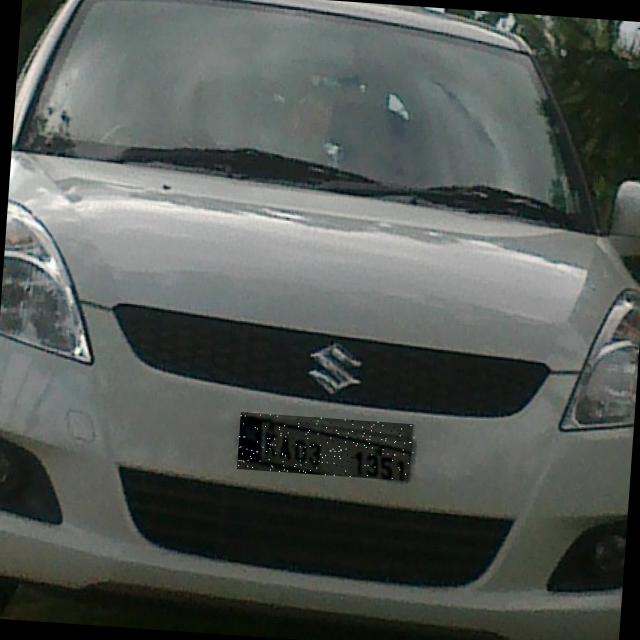Plate: (238, 413, 418, 482)
